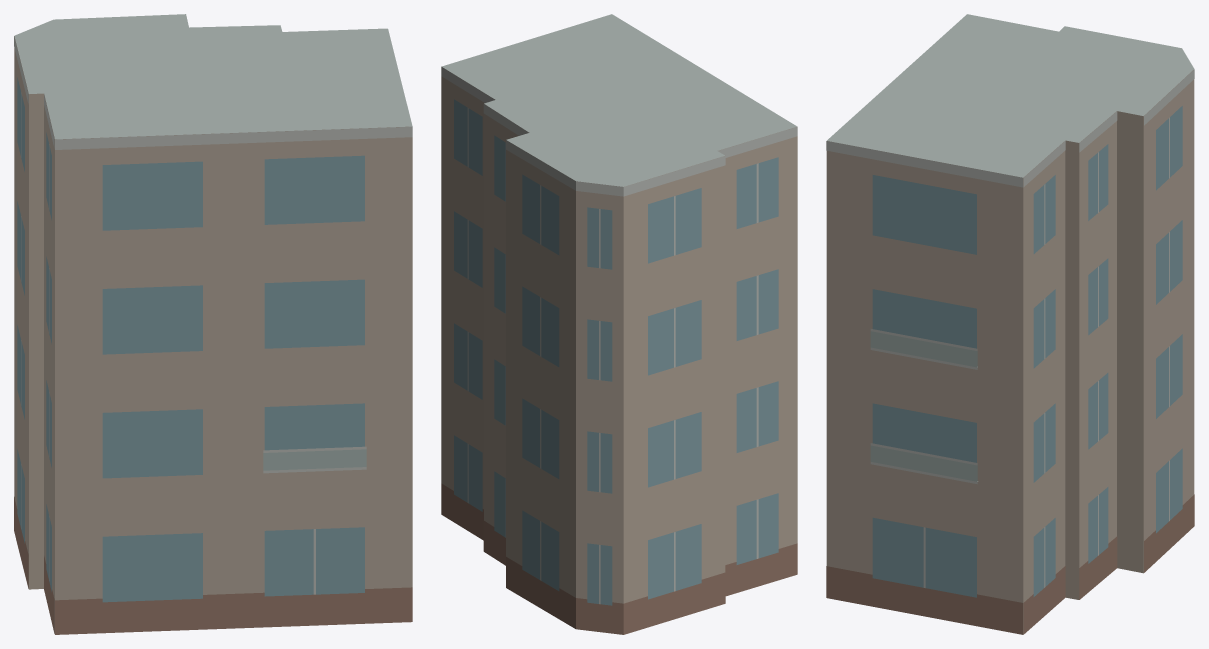
The model's file is survey-upis-32899807.glb.
3 renders of one model, left to right at view 1: azimuth 30°, elevation 25°; view 2: azimuth 150°, elevation 25°; view 3: azimuth 270°, elevation 25°, orthographic. The views are drawn at different scales.
Visible parts, largest first — view 1: survey-upis-32899807.tmp; view 2: survey-upis-32899807.tmp; view 3: survey-upis-32899807.tmp.
Part boxes in pixels (box(x1,y1,x2,y2)): survey-upis-32899807.tmp: box(14, 14, 412, 634); survey-upis-32899807.tmp: box(441, 14, 797, 634); survey-upis-32899807.tmp: box(826, 14, 1194, 634).
Bounding box in the file's own units: 8.69 × 11.3 × 8.25.
